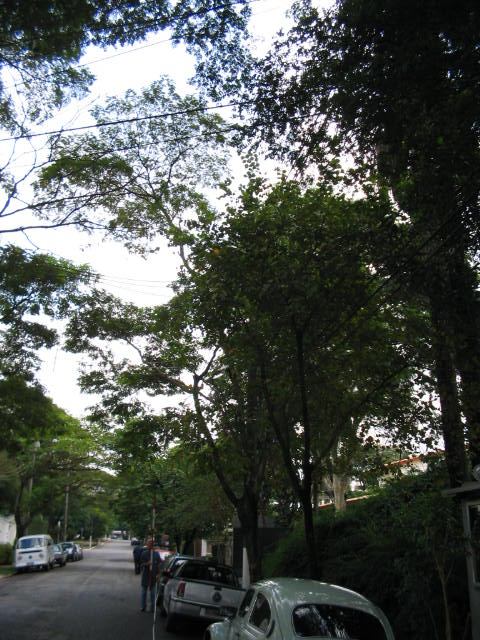crown: (176, 180, 438, 479)
stem: (285, 492, 333, 614), (222, 501, 272, 615)
stick: (141, 475, 162, 613)
tree: (173, 179, 440, 616), (122, 257, 291, 615)
